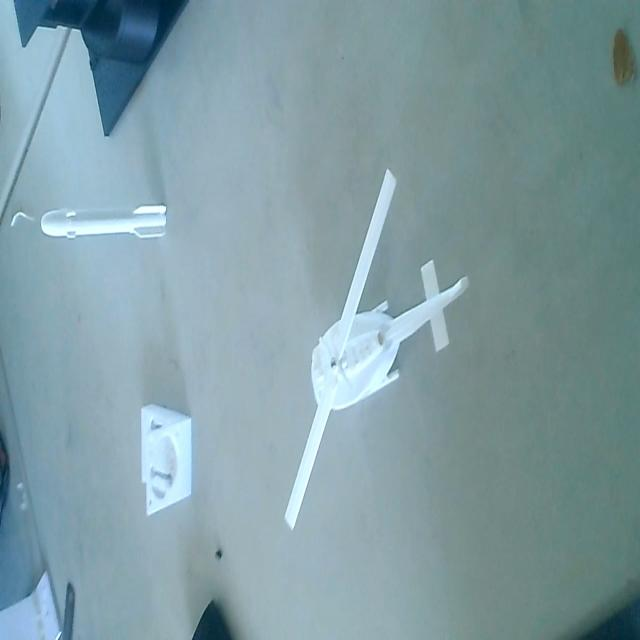Helicopter: (278, 168, 474, 561)
Rocket: (41, 201, 170, 249)
